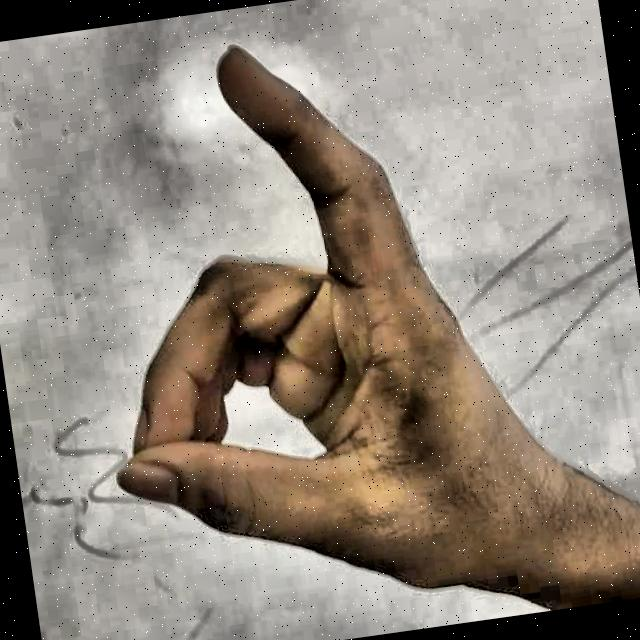Dha: (40, 0, 607, 640)
